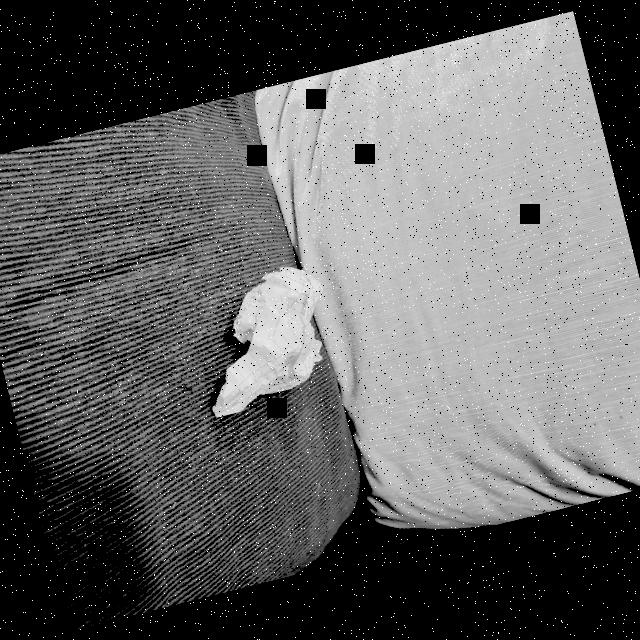scrap_paper: (184, 255, 352, 430)
